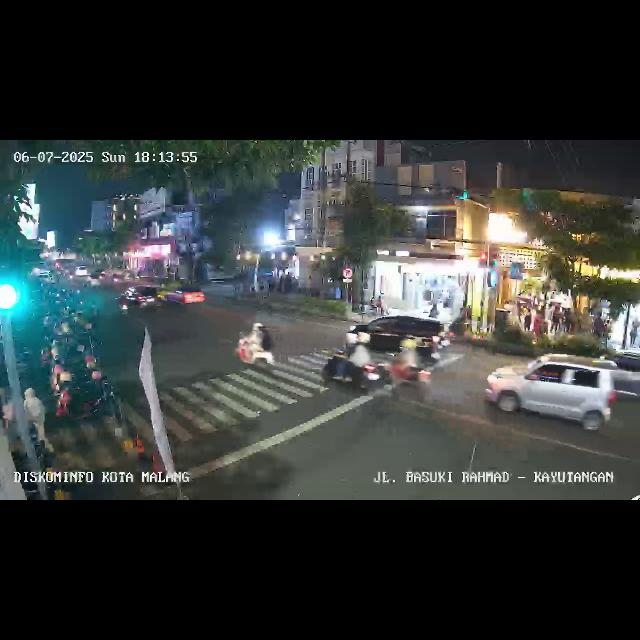car: (484, 354, 620, 434), (349, 311, 448, 365), (158, 286, 206, 310), (119, 284, 160, 310)
motorcycle: (322, 330, 388, 396), (379, 339, 433, 401), (236, 320, 276, 374), (118, 288, 130, 316)
person: (22, 386, 58, 459), (534, 306, 546, 342), (550, 303, 562, 335), (524, 304, 534, 338), (628, 318, 638, 348), (592, 314, 602, 342), (562, 308, 572, 334), (604, 322, 612, 350), (429, 296, 438, 316)
